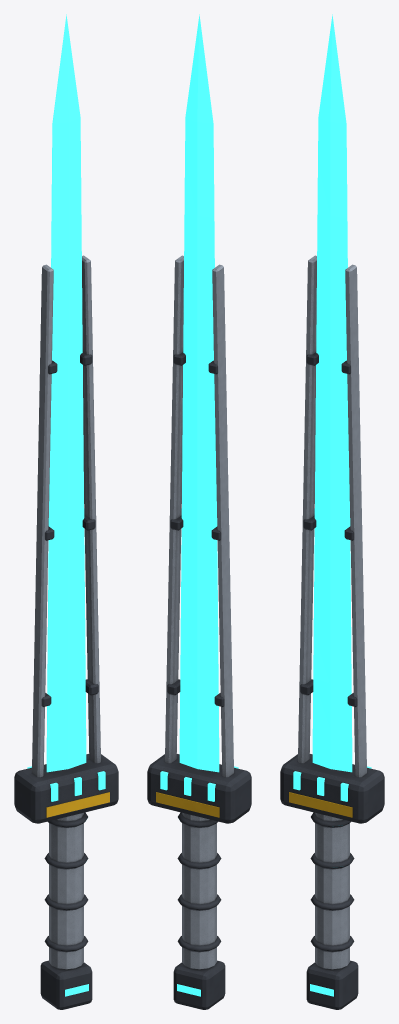
Rendered from 11_mechanical_sword.fbx.
3 views of the same model, side by side, from view 1: azimuth 30°, elevation 25°; view 2: azimuth 150°, elevation 25°; view 3: azimuth 330°, elevation 25° (orthographic).
Visible parts, largest first — view 1: Weapon; view 2: Weapon; view 3: Weapon.
Part boxes in pixels (left/top/right/bottom): Weapon: left=14, top=14, right=118, bottom=1009; Weapon: left=147, top=14, right=251, bottom=1009; Weapon: left=280, top=14, right=384, bottom=1009.
Size of the model in its own units: 11.62 by 126 by 5.71.
Materials: 2 (1 with a texture image).
